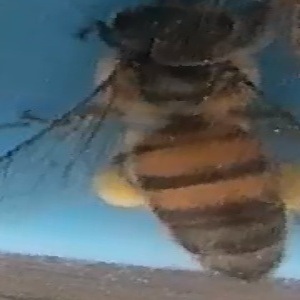bee: (48, 1, 298, 286)
